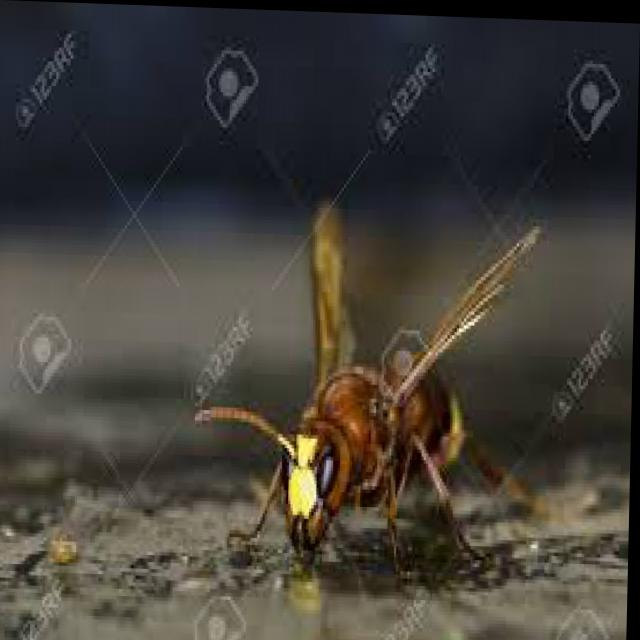Vespa Orientalis: (178, 179, 578, 612)
